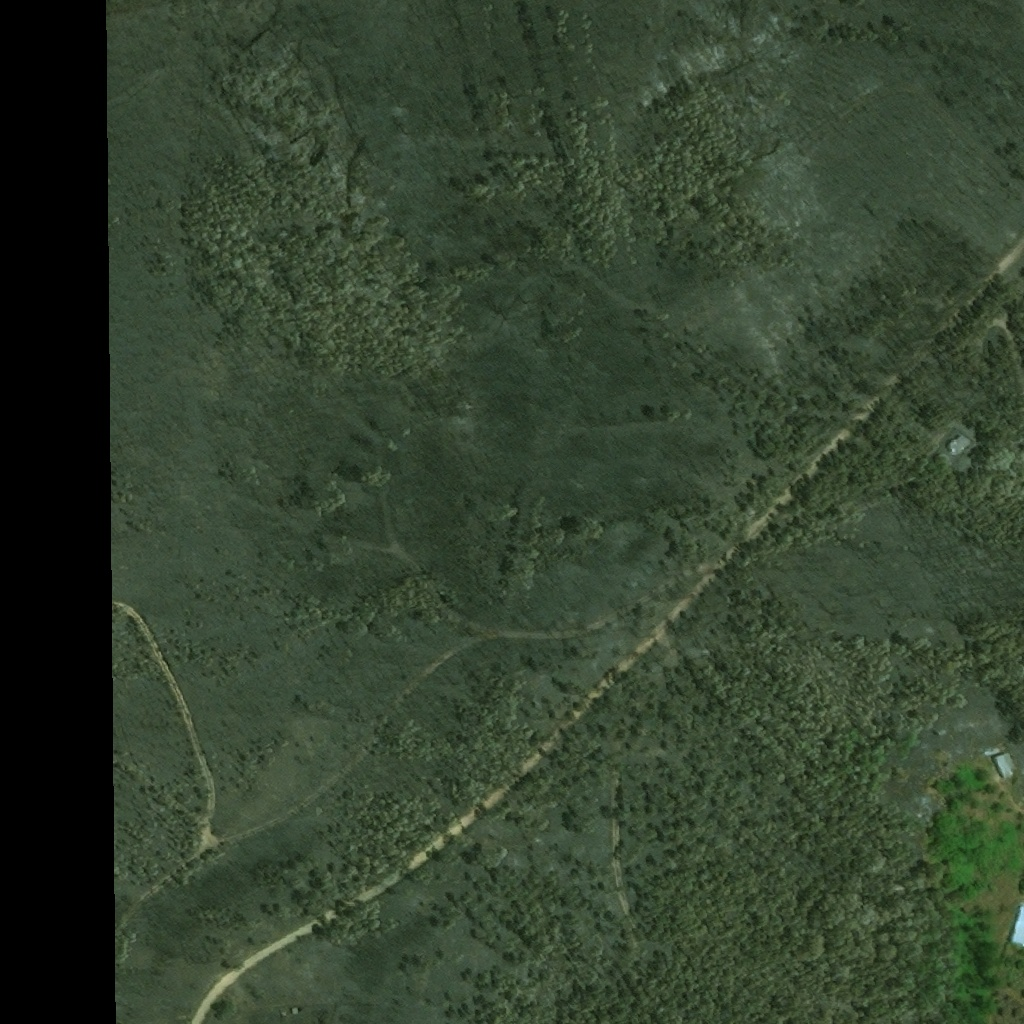0 no-damage: (995, 752, 1017, 780), (1010, 905, 1023, 946)
2 major-damage: (947, 433, 972, 456), (934, 452, 951, 466)
